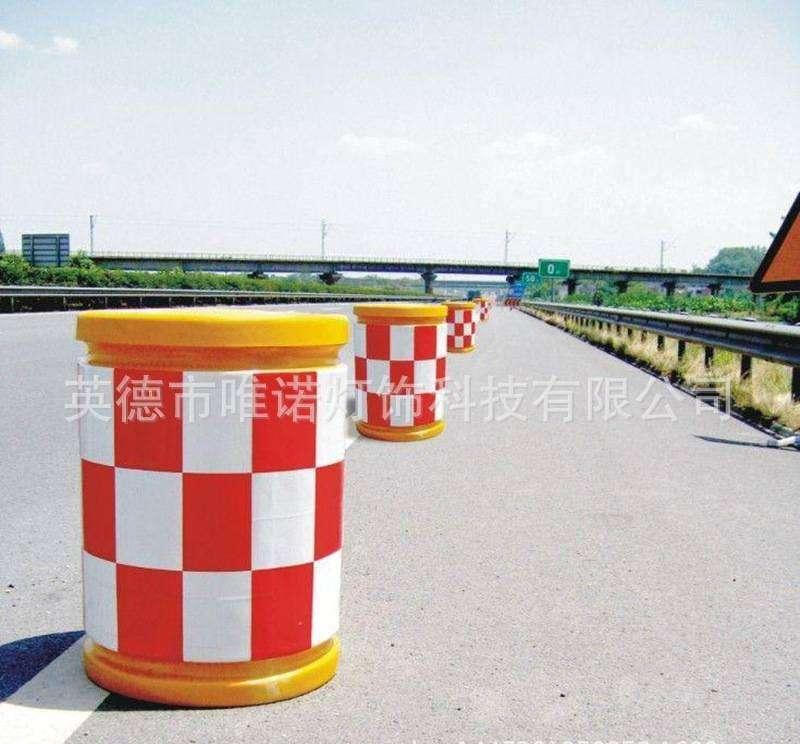sign: (55, 296, 351, 711), (350, 293, 450, 443)
